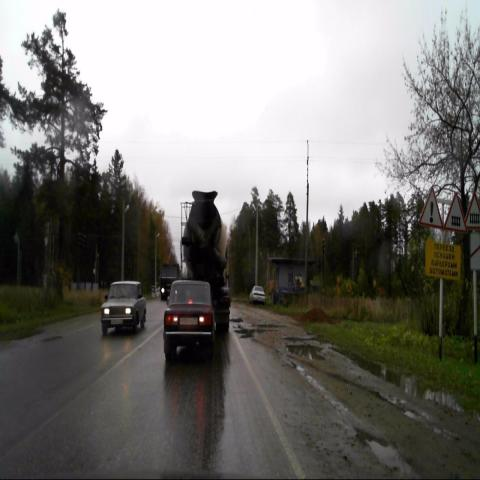1_1: (462, 192, 480, 230)
1_33: (418, 185, 443, 230)
